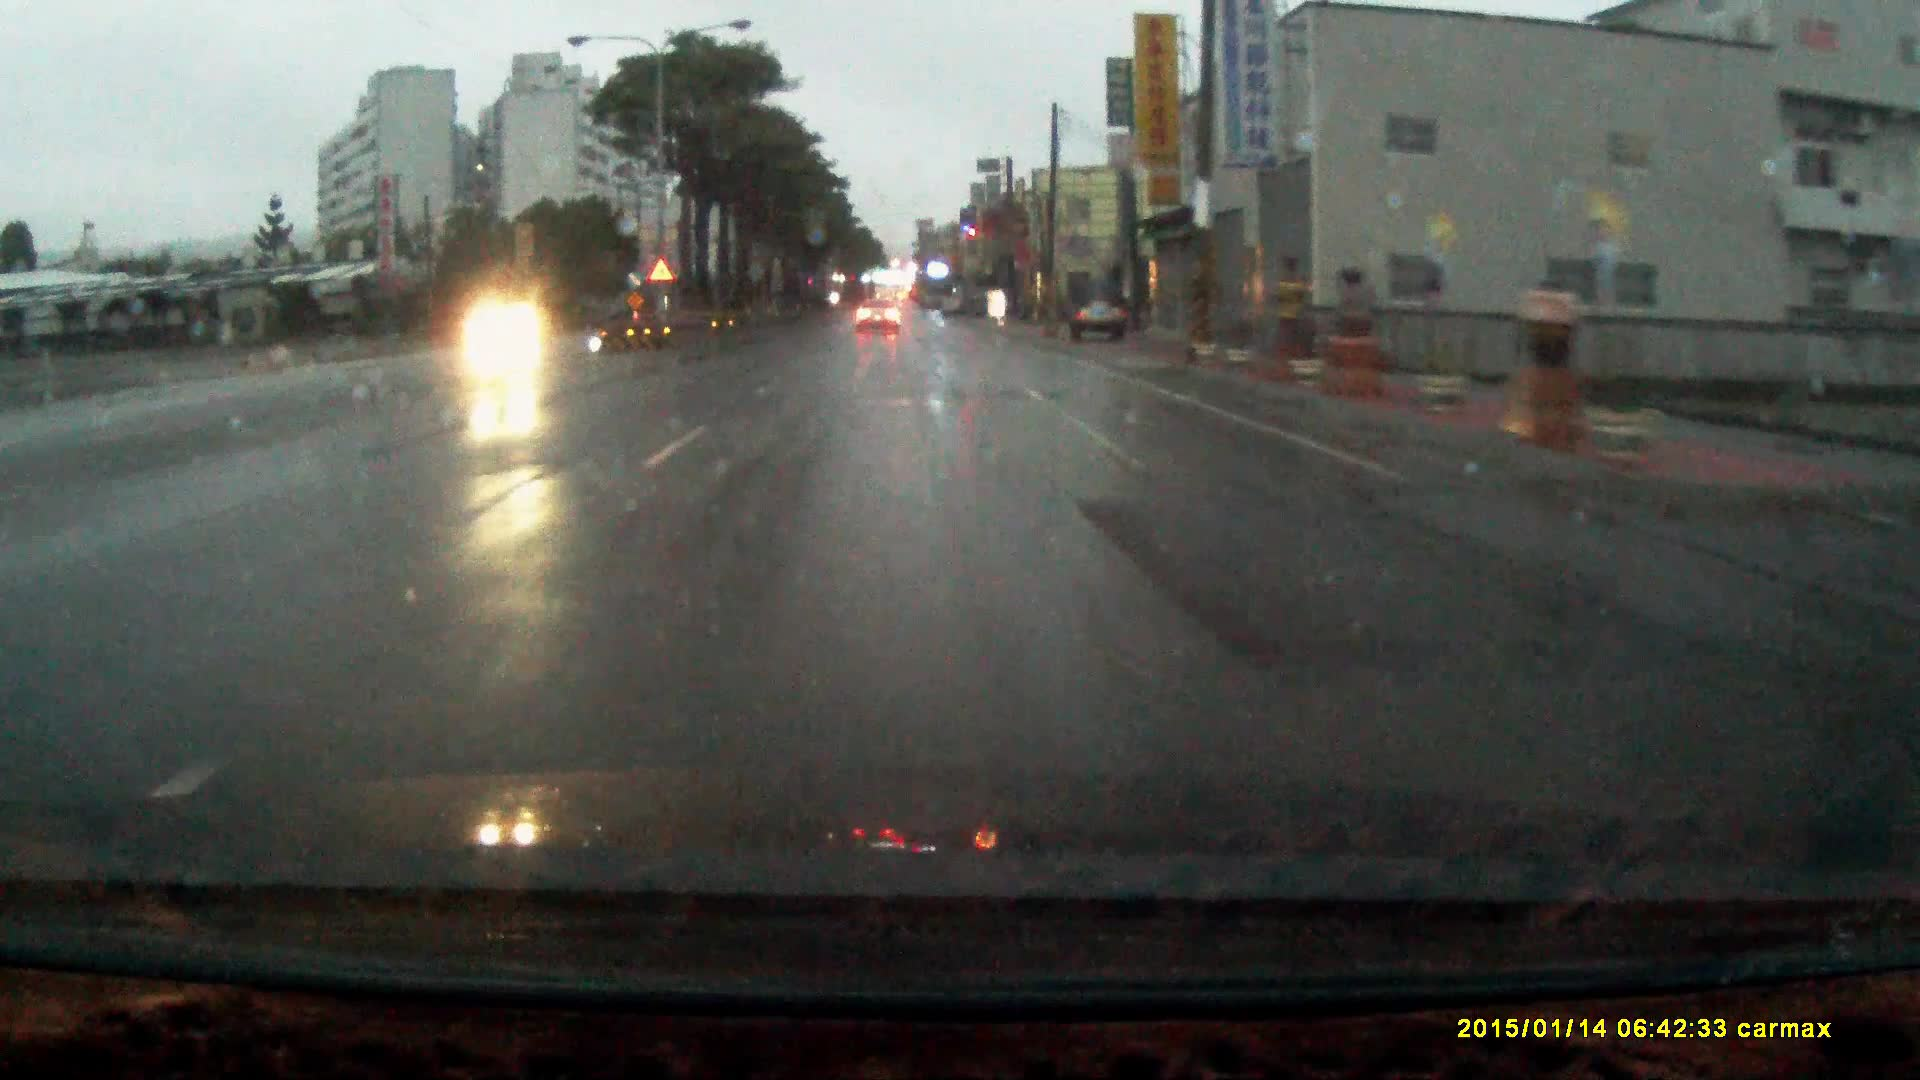vehicle: (1069, 284, 1131, 345), (856, 303, 905, 339)
